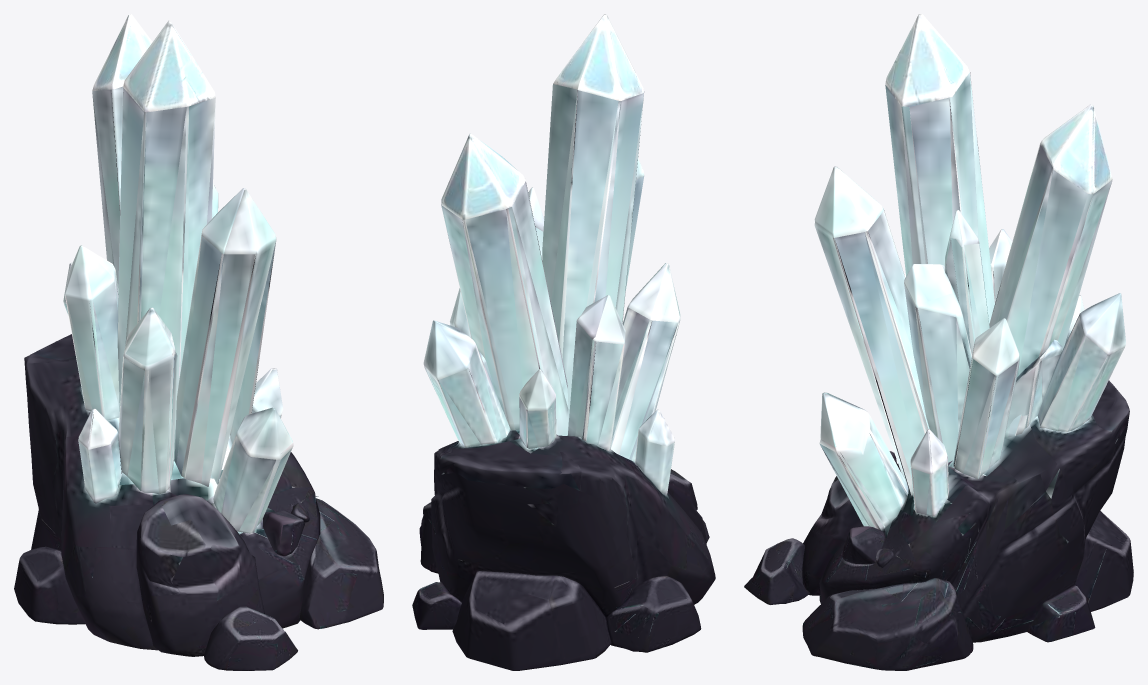
File: prop_crystal.glb
3 views of the same model, side by side, from view 1: azimuth 30°, elevation 25°; view 2: azimuth 150°, elevation 25°; view 3: azimuth 270°, elevation 25° (orthographic). The views are drawn at different scales.
Visible parts, largest first — view 1: prop_crystal; view 2: prop_crystal; view 3: prop_crystal.
Part boxes in pixels (x1=…): prop_crystal: x1=14, y1=14, x2=383, y2=670; prop_crystal: x1=412, y1=14, x2=715, y2=670; prop_crystal: x1=744, y1=14, x2=1133, y2=670.
Bounding box in the file's own units: 1.54 × 2.8 × 1.74.
1 material, 1 textured.
